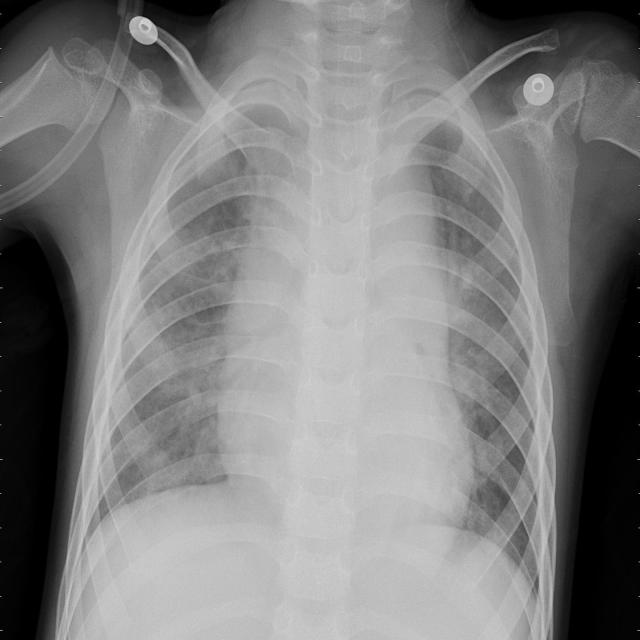low-pneumonia: (197, 59, 302, 203), (440, 254, 501, 401)
